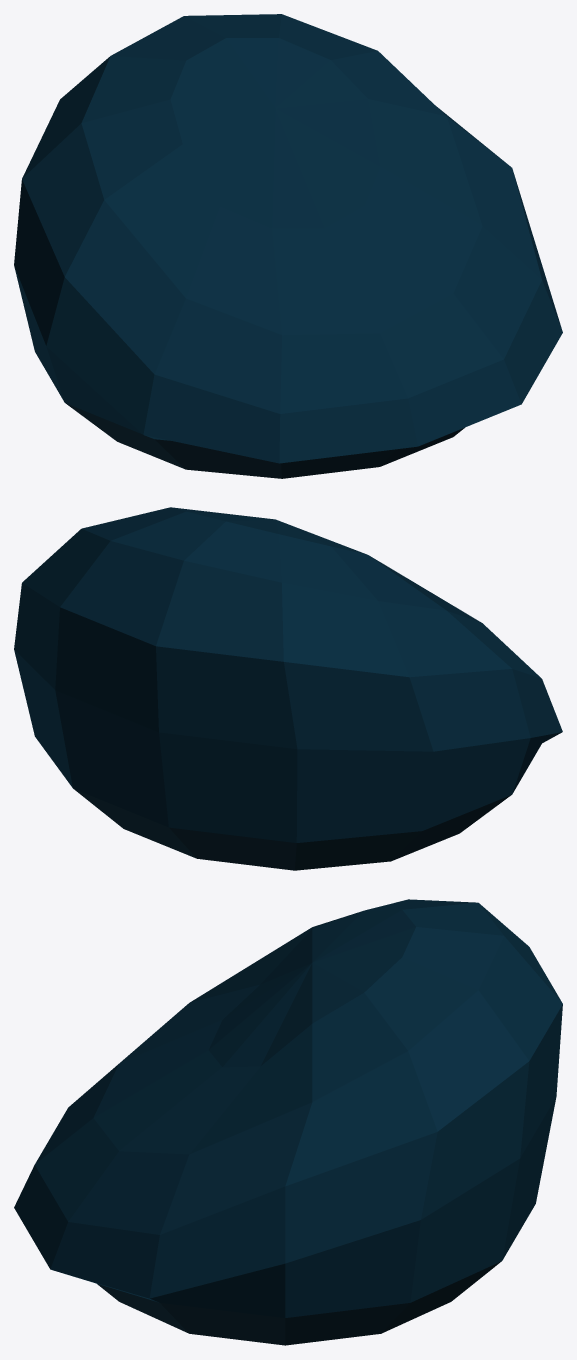
Rendered from SM_Hide_Beanbag.glb.
The picture shows the model from 3 angles, top to bottom: view 1: azimuth 30°, elevation 25°; view 2: azimuth 150°, elevation 25°; view 3: azimuth 270°, elevation 25°; orthographic projection. The views are drawn at different scales.
Visible parts, largest first — view 1: SM_Hide_Beanbag-col; view 2: SM_Hide_Beanbag-col; view 3: SM_Hide_Beanbag-col.
Part boxes in pixels (bbox=[...]): SM_Hide_Beanbag-col: bbox=[14, 14, 562, 478]; SM_Hide_Beanbag-col: bbox=[14, 507, 562, 870]; SM_Hide_Beanbag-col: bbox=[14, 899, 562, 1345].
Size of the model in its own units: 1.08 by 0.773 by 1.01.
